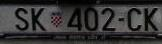-: (118, 17, 126, 22)
0: (85, 8, 98, 31)
2: (100, 7, 117, 31)
4: (67, 8, 83, 31)
C: (127, 8, 142, 32)
K: (31, 7, 48, 33), (144, 7, 159, 31)
S: (13, 7, 29, 31)
